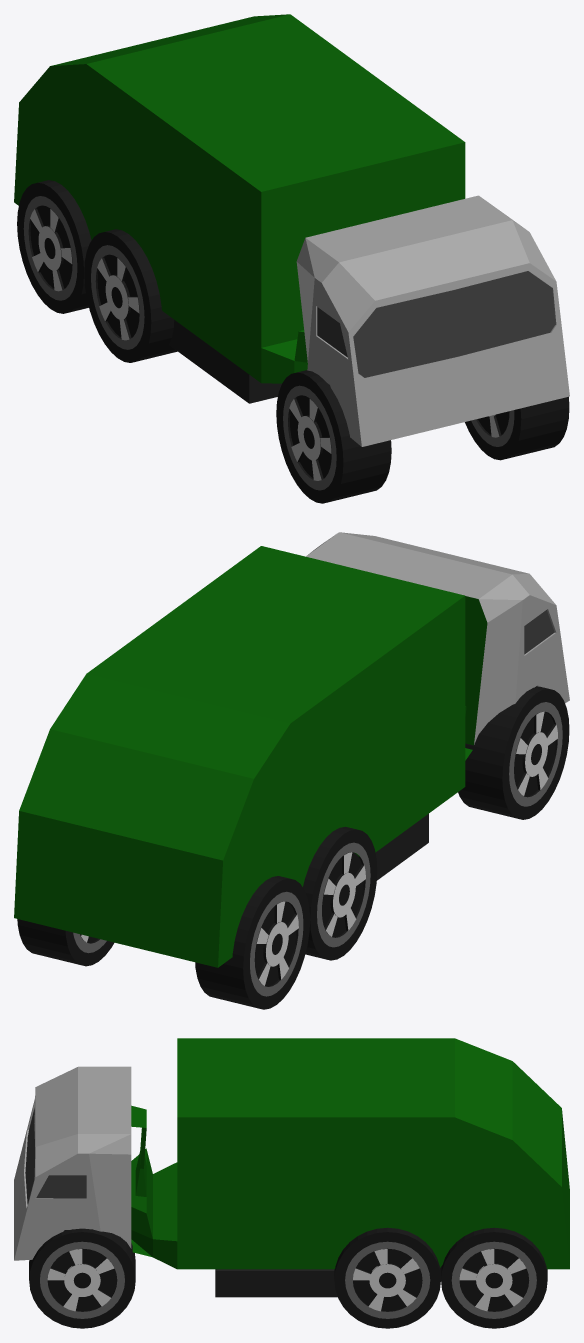
File: truck.fbx
3 views of the same model, one above another, from view 1: azimuth 30°, elevation 25°; view 2: azimuth 150°, elevation 25°; view 3: azimuth 270°, elevation 25° (orthographic). The views are drawn at different scales.
Parts seen in each view (by area): view 1: Garbage, Tire.003, Tire.005, Tire.004; view 2: Garbage, Tire.003, Tire.005, Tire.002; view 3: Garbage, Tire.002, Tire.004.
Part boxes in pixels (bbox=[...]): Garbage: bbox=[14, 14, 569, 446]; Tire.003: bbox=[17, 180, 177, 362]; Tire.005: bbox=[276, 370, 391, 503]; Tire.004: bbox=[465, 396, 569, 460]; Garbage: bbox=[14, 532, 569, 967]; Tire.003: bbox=[195, 826, 377, 1009]; Tire.005: bbox=[458, 686, 569, 819]; Tire.002: bbox=[17, 919, 114, 966]; Garbage: bbox=[14, 1038, 569, 1297]; Tire.002: bbox=[334, 1227, 547, 1328]; Tire.004: bbox=[29, 1228, 135, 1328].
Bounding box in the file's own units: 1408 × 1542 × 3754.
